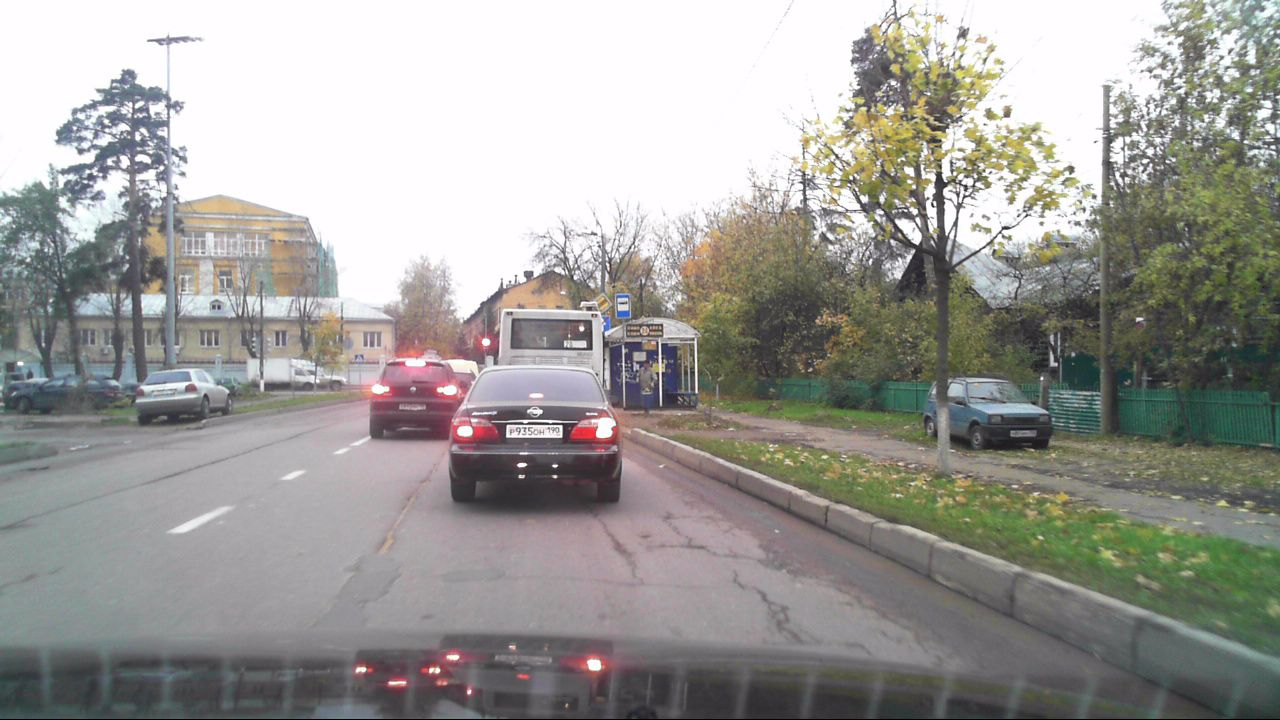main road: (593, 292, 611, 311)
